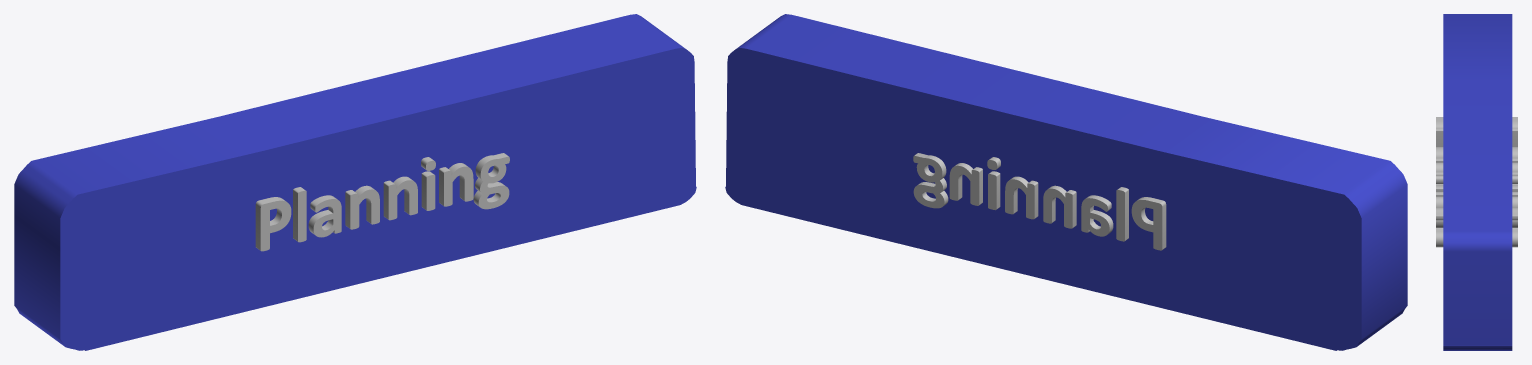
File: planmodel.fbx
3 views of the same model, side by side, from view 1: azimuth 30°, elevation 25°; view 2: azimuth 150°, elevation 25°; view 3: azimuth 270°, elevation 25° (orthographic). The views are drawn at different scales.
Visible parts, largest first — view 1: root, node_id59; view 2: root, node_id59; view 3: root, node_id59.
Part boxes in pixels (x1,y1,x2,y2): root: [14, 14, 696, 350]; node_id59: [255, 153, 509, 251]; root: [725, 14, 1407, 350]; node_id59: [913, 153, 1166, 250]; root: [1443, 14, 1512, 350]; node_id59: [1436, 117, 1517, 247].
Size of the model in its own units: 0.4177 by 0.0993 by 0.0626.
